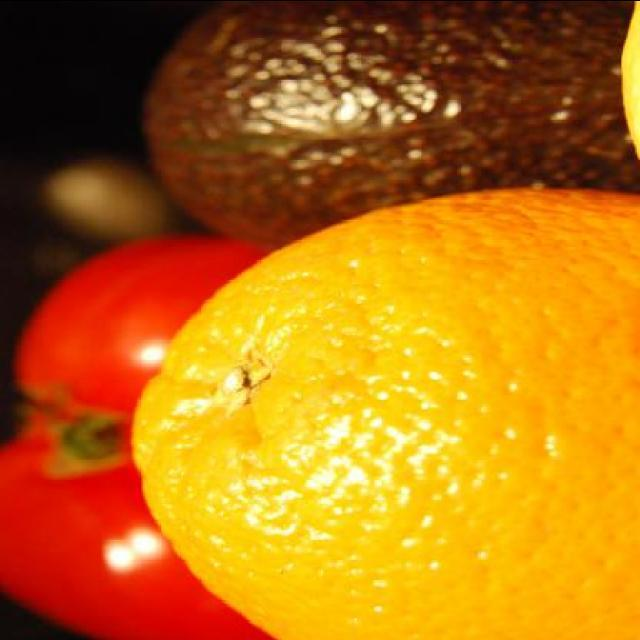Orange: (130, 185, 638, 640), (623, 2, 639, 158)
